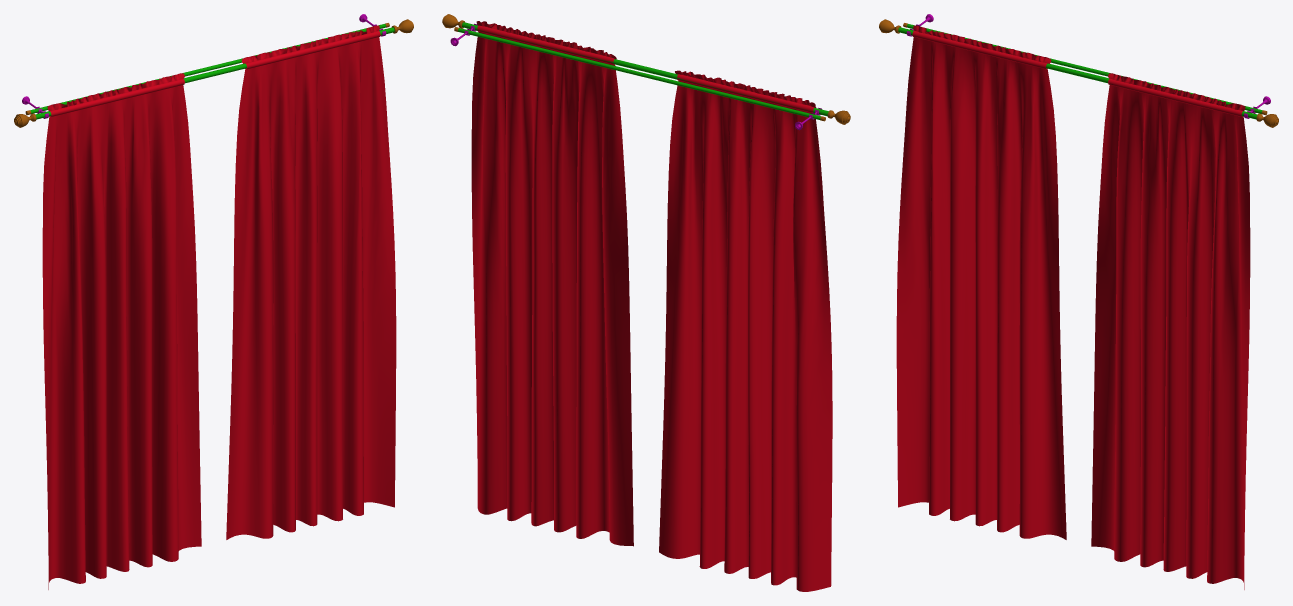
File: Curtain_605.fbx
3 views of the same model, side by side, from view 1: azimuth 30°, elevation 25°; view 2: azimuth 150°, elevation 25°; view 3: azimuth 330°, elevation 25° (orthographic). The views are drawn at different scales.
Visible parts, largest first — view 1: Curtain_605; view 2: Curtain_605; view 3: Curtain_605.
Boxes of the visible parts, x1,y1,x2,y2 form: Curtain_605: (14, 14, 413, 589); Curtain_605: (442, 14, 850, 591); Curtain_605: (879, 14, 1278, 589).
Size of the model in its own units: 221 by 253 by 26.98.
